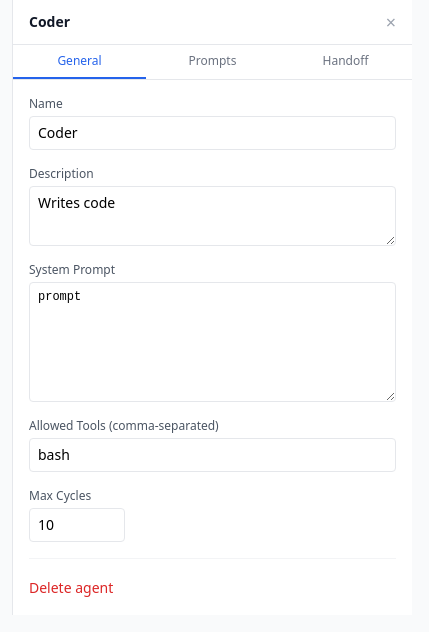
SidePanel › switches tabs on click
What coordinates should you click on to do the following:
click the button "Prompts"
I would click on:
 (212, 62)
Its box is [146,45,279,79].
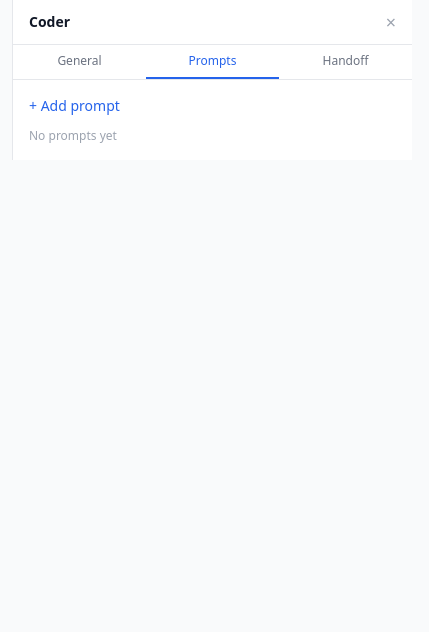
Result: the button "+ Add prompt" is shown at [29,96,396,116]
